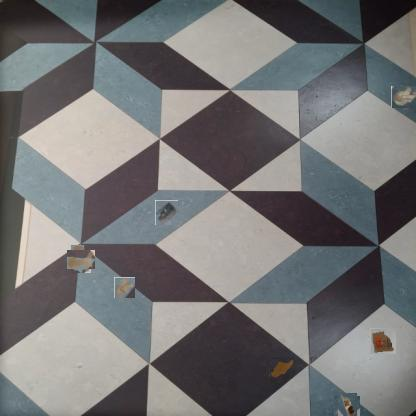dirty: (370, 328, 396, 354), (392, 85, 416, 109), (155, 200, 178, 225), (335, 394, 358, 416), (114, 277, 135, 298)
liquid: (69, 247, 93, 271), (269, 358, 293, 378)
